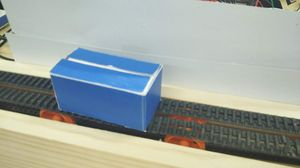box3: (50, 46, 162, 133)
